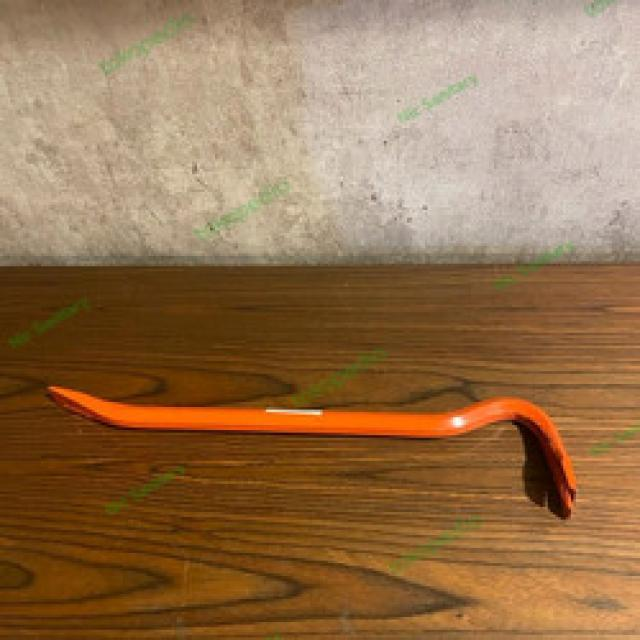Linggis: (39, 366, 595, 540)
